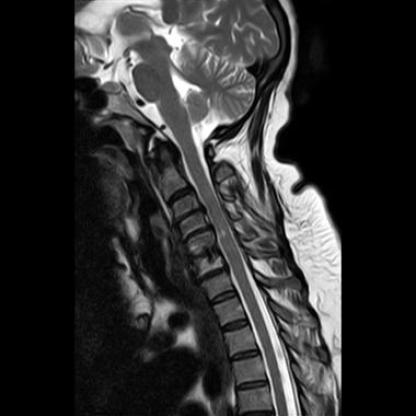Disc Bulgerotation: (191, 264, 230, 281), (171, 210, 206, 222)
Osteophytesrotation: (193, 263, 232, 281), (177, 228, 216, 240), (171, 210, 206, 222)
